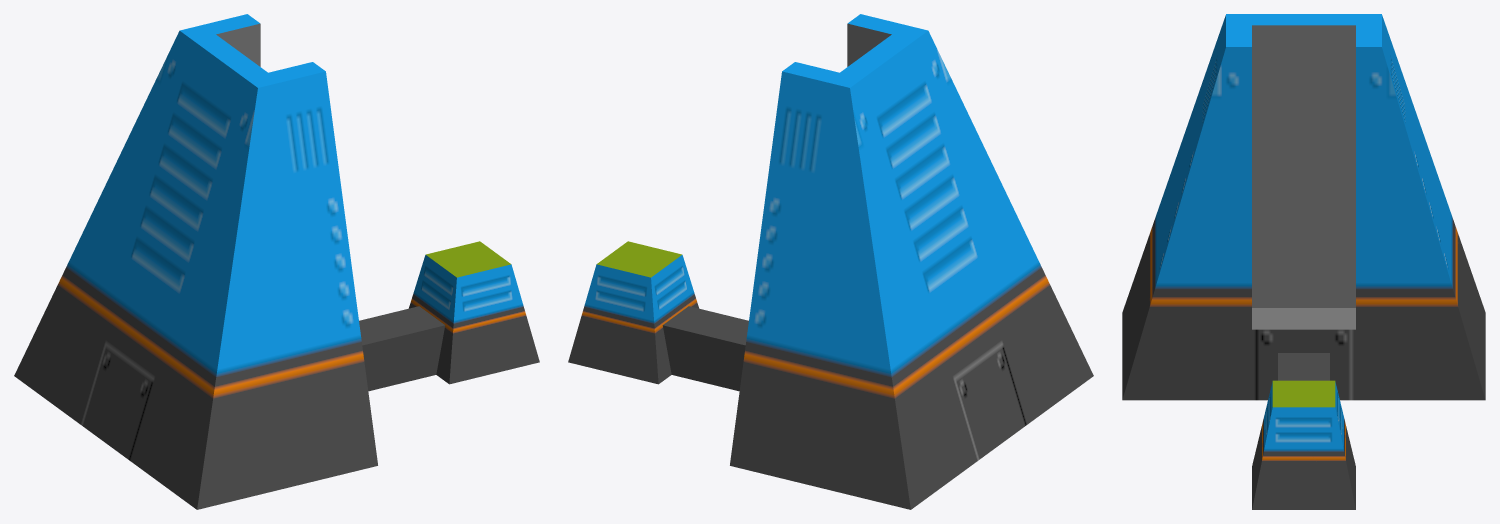
File: labo1.obj
3 views of the same model, side by side, from view 1: azimuth 30°, elevation 25°; view 2: azimuth 150°, elevation 25°; view 3: azimuth 270°, elevation 25° (orthographic).
Parts seen in each view (by area): view 1: ColobotMesh_1_ColobotMesh_; view 2: ColobotMesh_1_ColobotMesh_; view 3: ColobotMesh_1_ColobotMesh_.
Part boxes in pixels (<box>): ColobotMesh_1_ColobotMesh_: <box>14,14,539,509</box>; ColobotMesh_1_ColobotMesh_: <box>568,14,1093,509</box>; ColobotMesh_1_ColobotMesh_: <box>1122,14,1485,509</box>.
Size of the model in its own units: 18.03 by 15.03 by 14.
